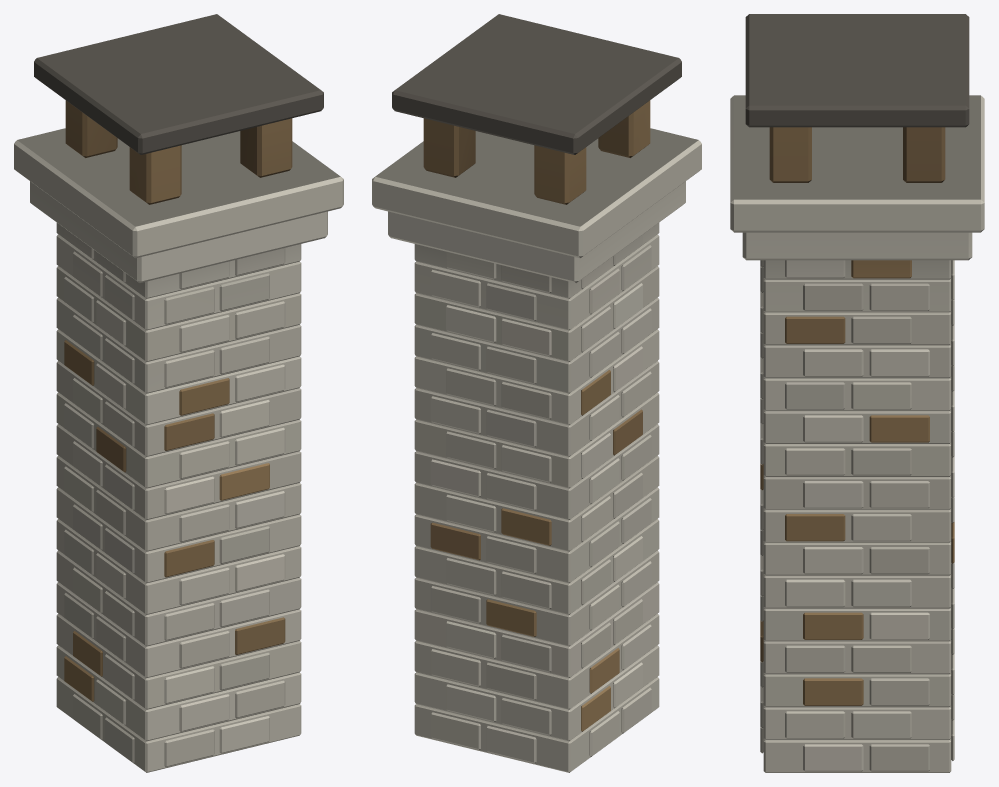
Rendered from ev_soba.glb.
The picture shows the model from 3 angles, left to right: view 1: azimuth 30°, elevation 25°; view 2: azimuth 150°, elevation 25°; view 3: azimuth 270°, elevation 25°; orthographic projection. The views are drawn at different scales.
Parts seen in each view (by area): view 1: plaster-chimneytop-017, plaster-flue-015, plaster-flue-003, plaster-flue-005, plaster-flue-008, plaster-flue-010, plaster-flue-014, plaster-flue-006, plaster-flue-011, plaster-flue-001, plaster-flue-002, plaster-flue-004 (+5 smaller); view 2: plaster-chimneytop-017, plaster-flue-008, plaster-flue-014, plaster-flue-015, plaster-flue-003, plaster-flue-005, plaster-flue-001, plaster-flue-007, plaster-flue-010, plaster-flue-013, plaster-flue-004, plaster-flue-006 (+5 smaller); view 3: plaster-chimneytop-017, plaster-flue-013, plaster-flue-004, plaster-flue-006, plaster-flue-007, plaster-flue-003, plaster-flue-005, plaster-flue-014, plaster-flue-008, plaster-flue-015, plaster-flue-012, plaster-flue-002 (+5 smaller).
Part boxes in pixels (left/top/right/bottom): plaster-chimneytop-017: left=14, top=14, right=343, bottom=282; plaster-flue-015: left=56, top=234, right=301, bottom=330; plaster-flue-003: left=56, top=613, right=301, bottom=709; plaster-flue-005: left=56, top=550, right=301, bottom=646; plaster-flue-008: left=56, top=455, right=301, bottom=551; plaster-flue-010: left=56, top=392, right=301, bottom=488; plaster-flue-014: left=56, top=266, right=301, bottom=361; plaster-flue-006: left=56, top=519, right=301, bottom=614; plaster-flue-011: left=56, top=360, right=301, bottom=456; plaster-flue-001: left=56, top=677, right=301, bottom=772; plaster-flue-002: left=56, top=645, right=301, bottom=741; plaster-flue-004: left=56, top=582, right=301, bottom=677; plaster-chimneytop-017: left=372, top=14, right=701, bottom=282; plaster-flue-008: left=414, top=455, right=659, bottom=551; plaster-flue-014: left=414, top=266, right=659, bottom=361; plaster-flue-015: left=414, top=234, right=659, bottom=330; plaster-flue-003: left=414, top=613, right=659, bottom=709; plaster-flue-005: left=414, top=550, right=659, bottom=646; plaster-flue-001: left=414, top=677, right=659, bottom=772; plaster-flue-007: left=414, top=487, right=659, bottom=583; plaster-flue-010: left=414, top=392, right=659, bottom=488; plaster-flue-013: left=414, top=297, right=659, bottom=393; plaster-flue-004: left=414, top=582, right=659, bottom=677; plaster-flue-006: left=414, top=519, right=659, bottom=614; plaster-chimneytop-017: left=730, top=14, right=984, bottom=260; plaster-flue-013: left=760, top=324, right=954, bottom=378; plaster-flue-004: left=760, top=620, right=954, bottom=674; plaster-flue-006: left=760, top=555, right=954, bottom=608; plaster-flue-007: left=760, top=522, right=954, bottom=575; plaster-flue-003: left=760, top=653, right=954, bottom=707; plaster-flue-005: left=760, top=588, right=954, bottom=641; plaster-flue-014: left=760, top=292, right=954, bottom=345; plaster-flue-008: left=760, top=489, right=954, bottom=542; plaster-flue-015: left=760, top=260, right=954, bottom=312; plaster-flue-012: left=760, top=357, right=954, bottom=410; plaster-flue-002: left=760, top=686, right=954, bottom=739.
Size of the model in its own units: 0.84 by 2.46 by 0.84.
